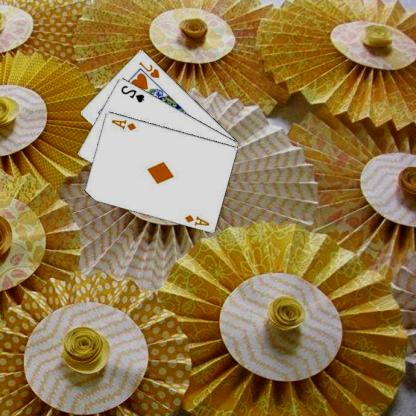2S: (120, 82, 147, 104)
AD: (184, 212, 212, 227), (110, 117, 139, 131)
JH: (138, 59, 163, 79)
